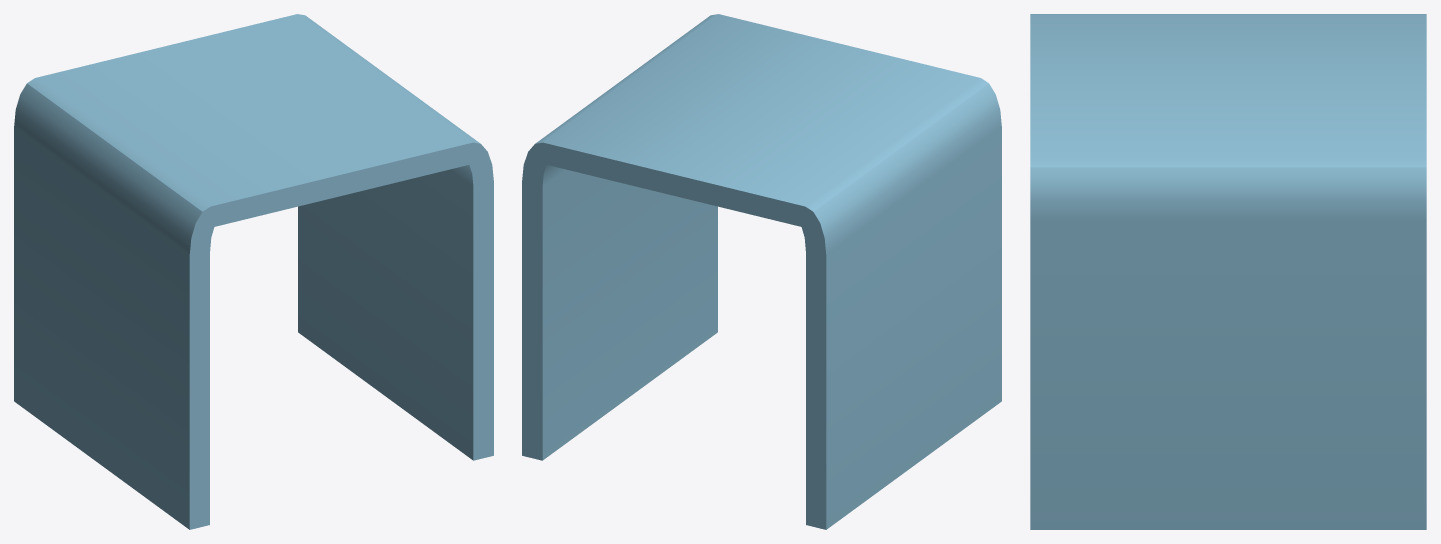
File: Props_Conveyor_Blue_Connector_03.fbx
3 views of the same model, side by side, from view 1: azimuth 30°, elevation 25°; view 2: azimuth 150°, elevation 25°; view 3: azimuth 270°, elevation 25° (orthographic). The views are drawn at different scales.
Parts seen in each view (by area): view 1: Props_Conveyor_Blue_Connector_03; view 2: Props_Conveyor_Blue_Connector_03; view 3: Props_Conveyor_Blue_Connector_03.
Part boxes in pixels (left/top/right/bottom): Props_Conveyor_Blue_Connector_03: left=14, top=14, right=493, bottom=529; Props_Conveyor_Blue_Connector_03: left=522, top=14, right=1001, bottom=529; Props_Conveyor_Blue_Connector_03: left=1030, top=14, right=1426, bottom=529.
Bounding box in the file's own units: 100 × 100 × 100.
